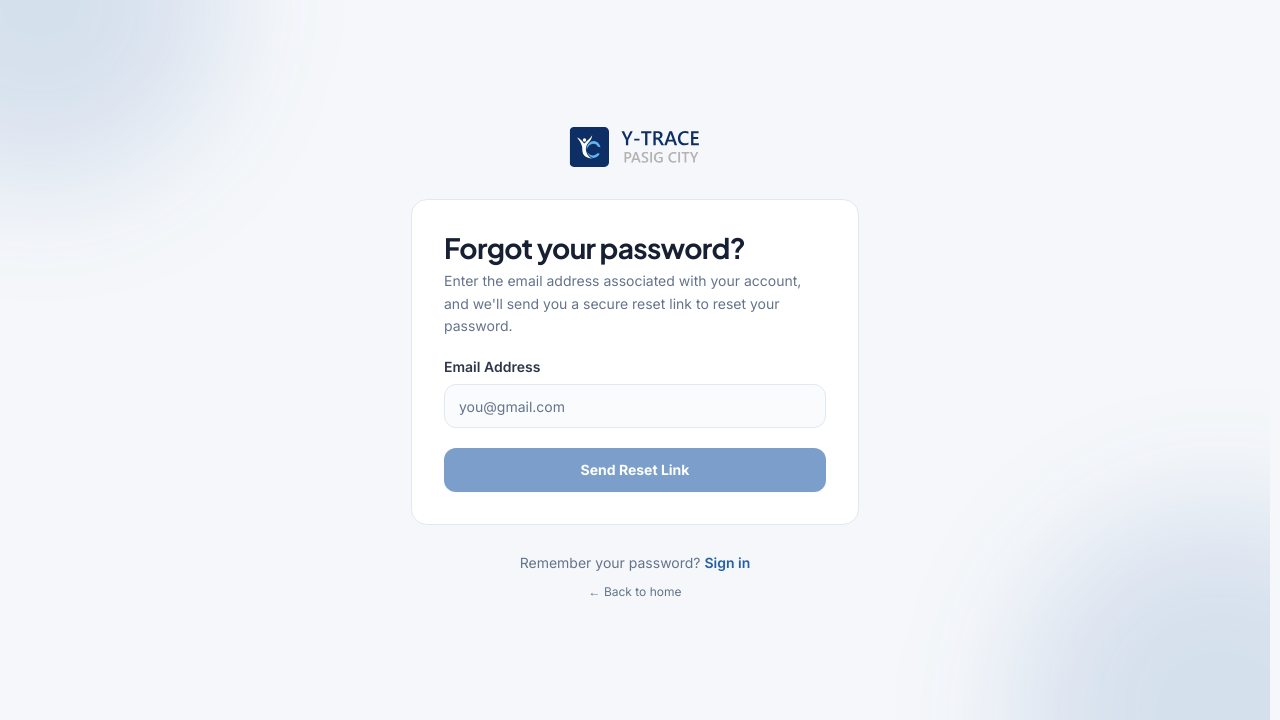
Test: ResetPassword Component & Recovery Flow Suite › Test 9: Successfully submits reset request with email validation
Type "testorg@gmail.com" into the field labelled "Email Address".
click(635, 406); type("testorg@gmail.com")  # box [444,384,826,428]
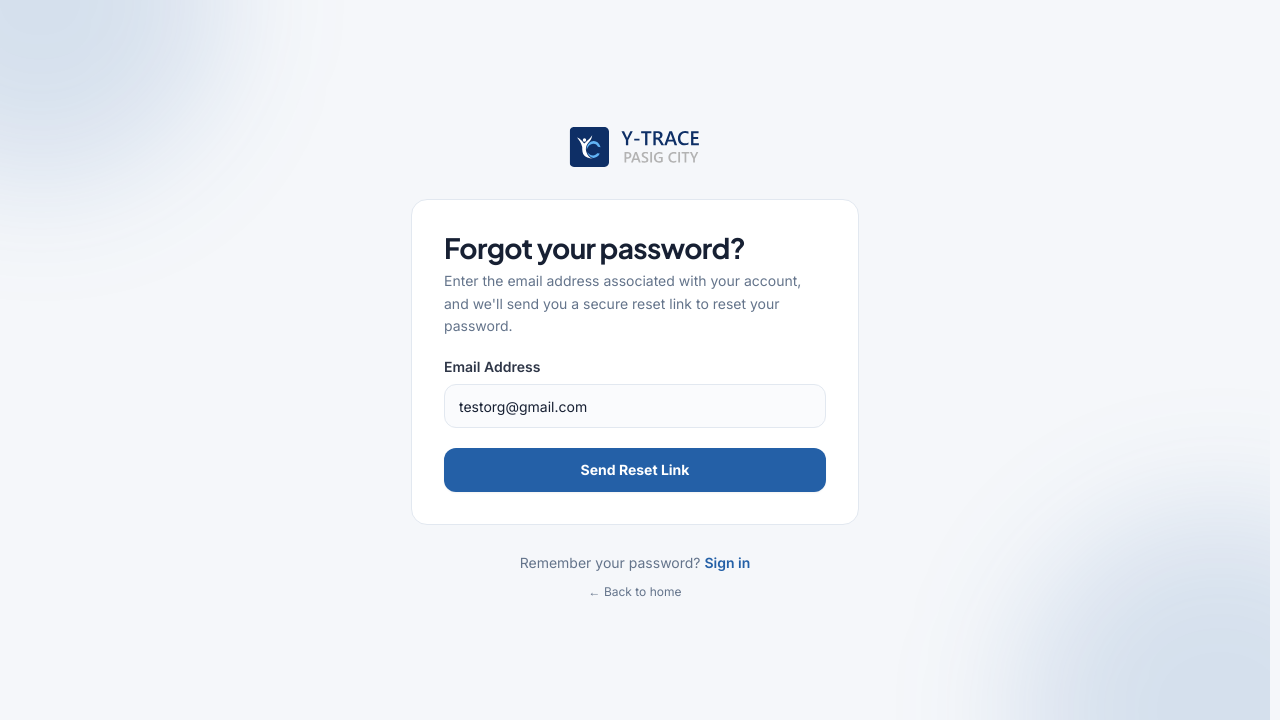
Click the button "Send Reset Link".
click(635, 470)  # box [444,448,826,492]
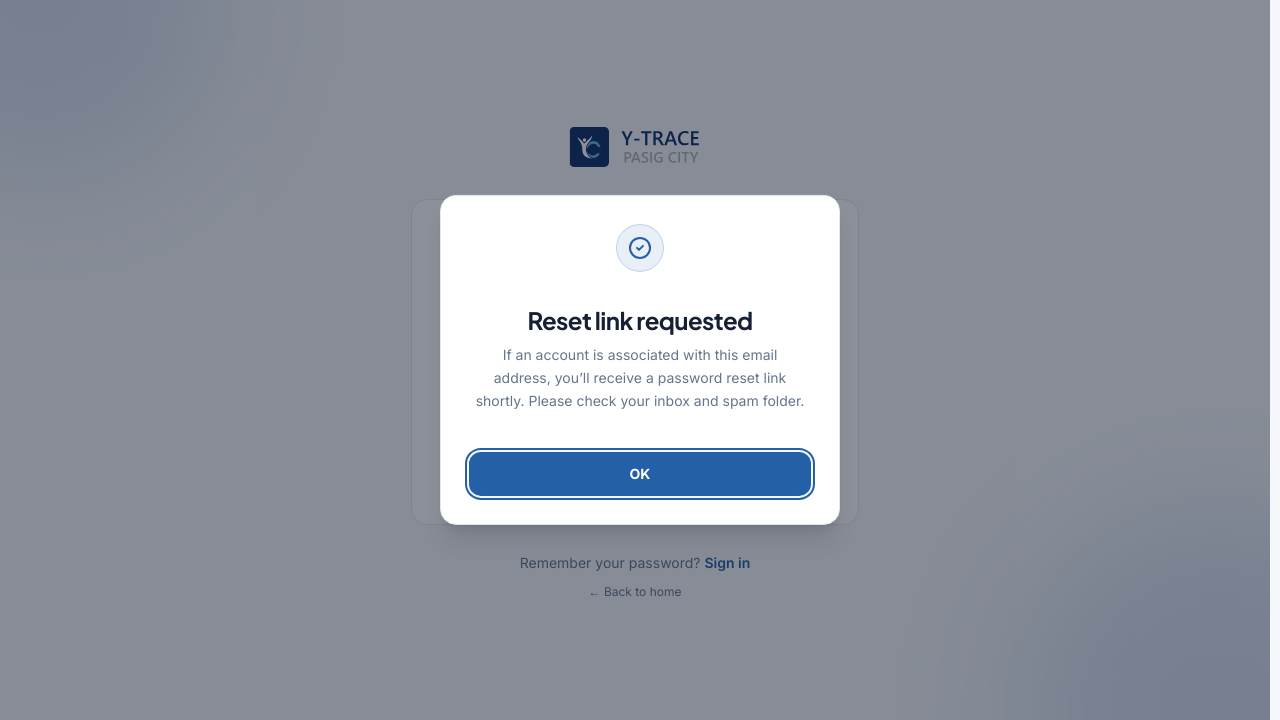
Expected: the heading "Reset link requested" is shown, [527,305,753,335]
